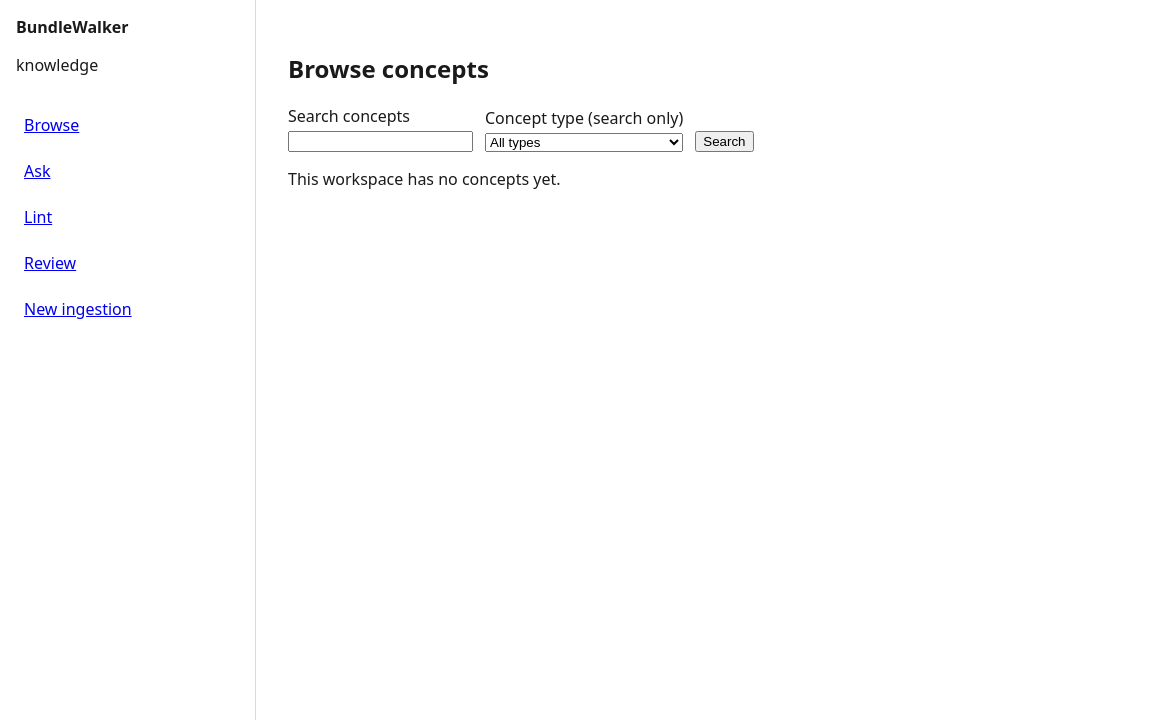
Test: submits the selected concept type only with an explicit lexical search
Select "Entity (2)" in the dropdown labelled "Concept type (search only)". click: [584, 142]
box: left=485, top=133, right=683, bottom=152
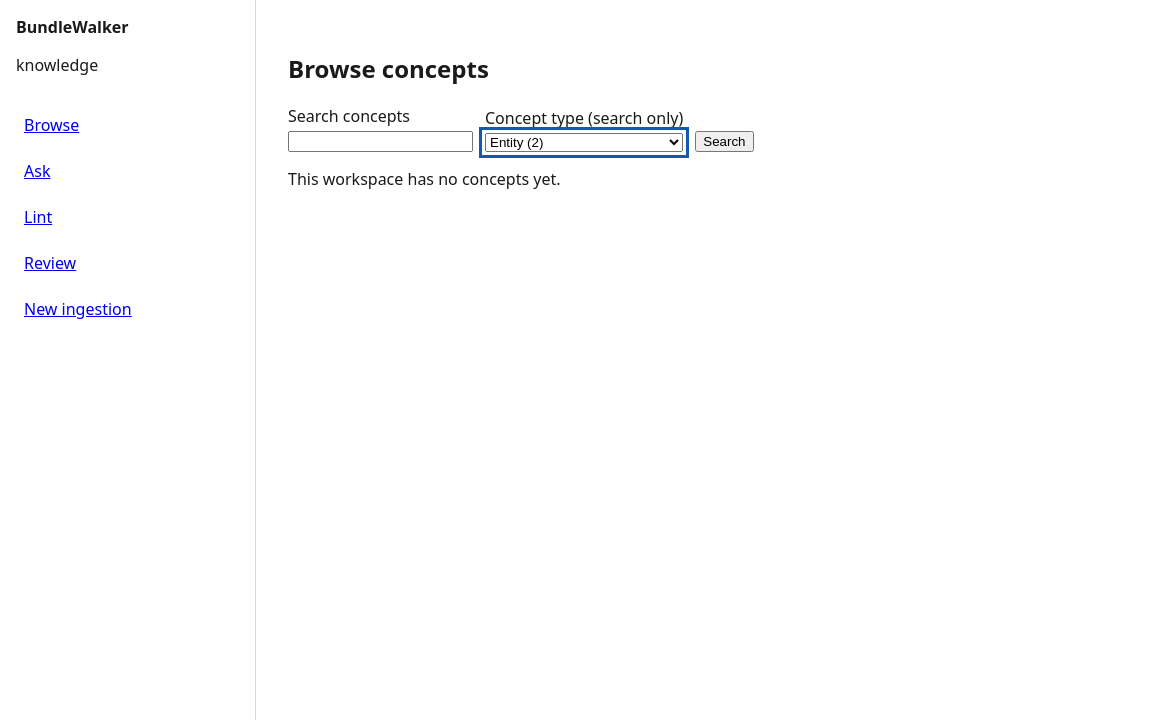
Type "tools" into the search field labelled "Search concepts". click: [380, 141]
box: left=288, top=131, right=473, bottom=152
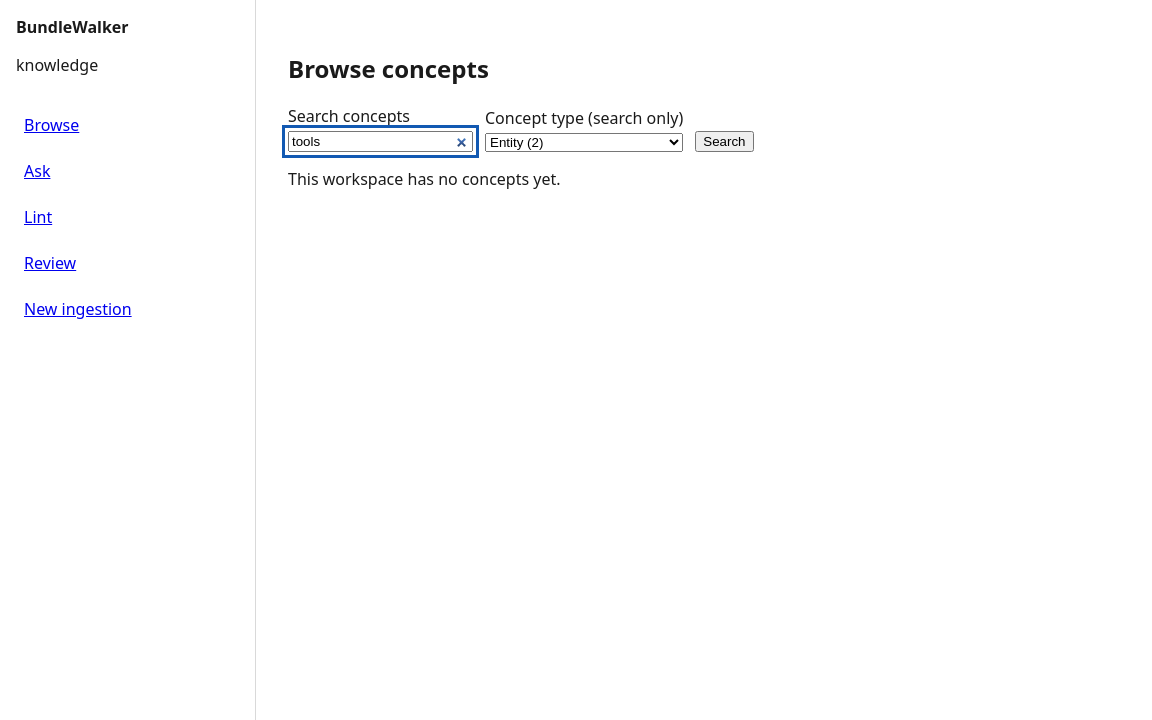
Click the button "Search". click: [724, 141]
box: left=695, top=131, right=754, bottom=152
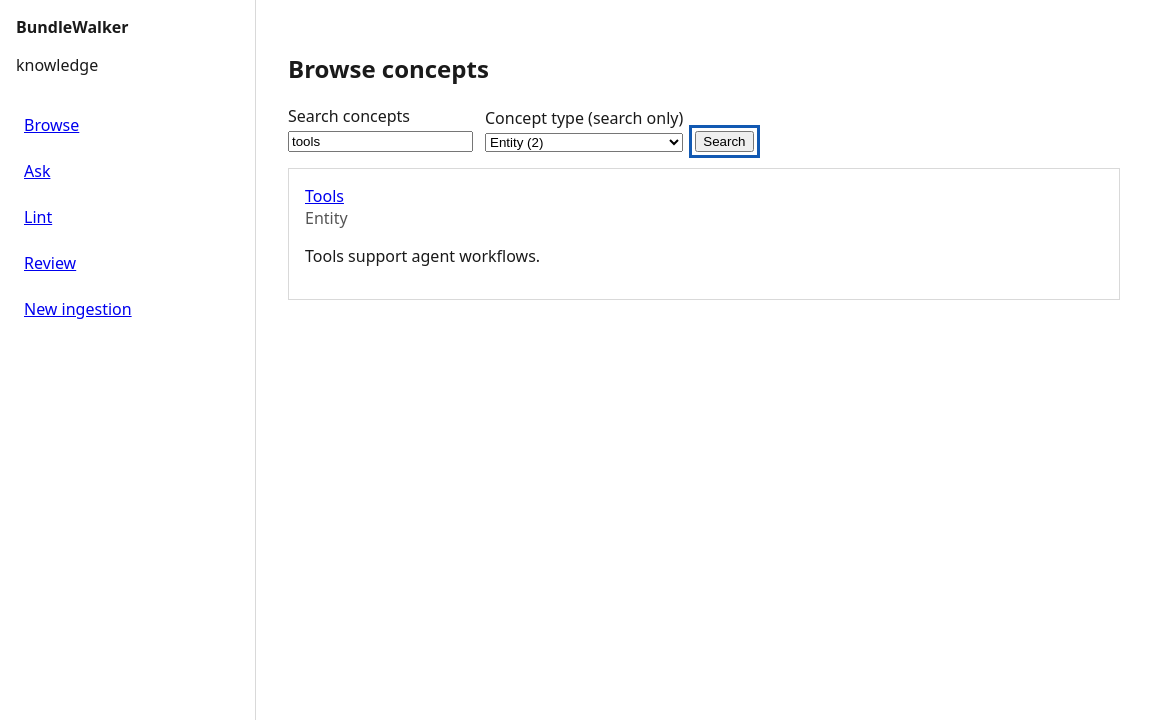
Expected: the link "Tools" is shown, left=305, top=185, right=344, bottom=207
Select "Topic (1)" in the dropdown labelled "Concept type (search only)". click: [584, 142]
box: left=485, top=133, right=683, bottom=152
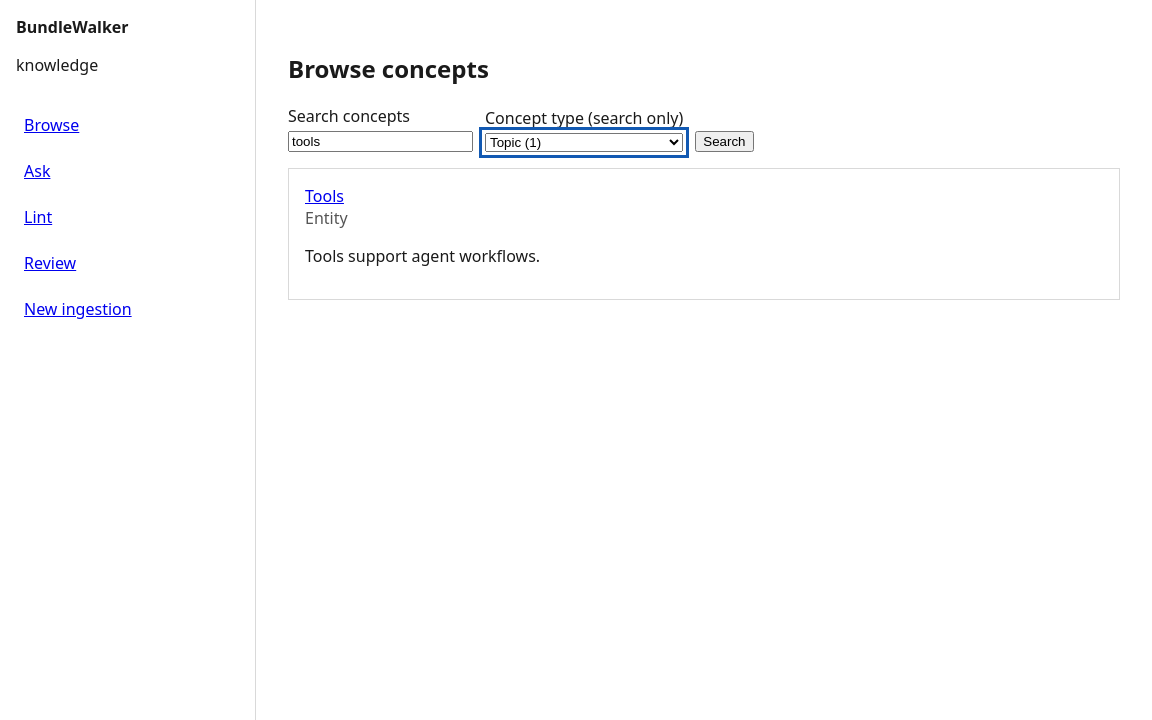
Click the button "Search". click: [724, 141]
box: left=695, top=131, right=754, bottom=152
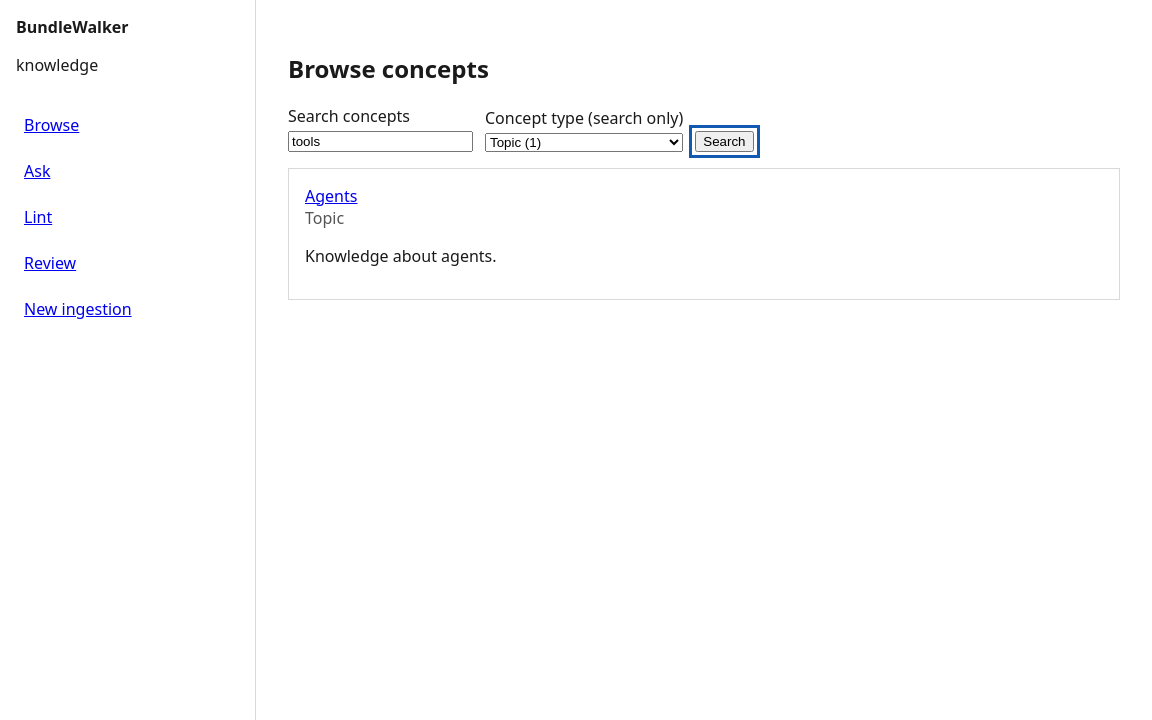
Expected: the link "Agents" is shown, left=305, top=185, right=357, bottom=207
